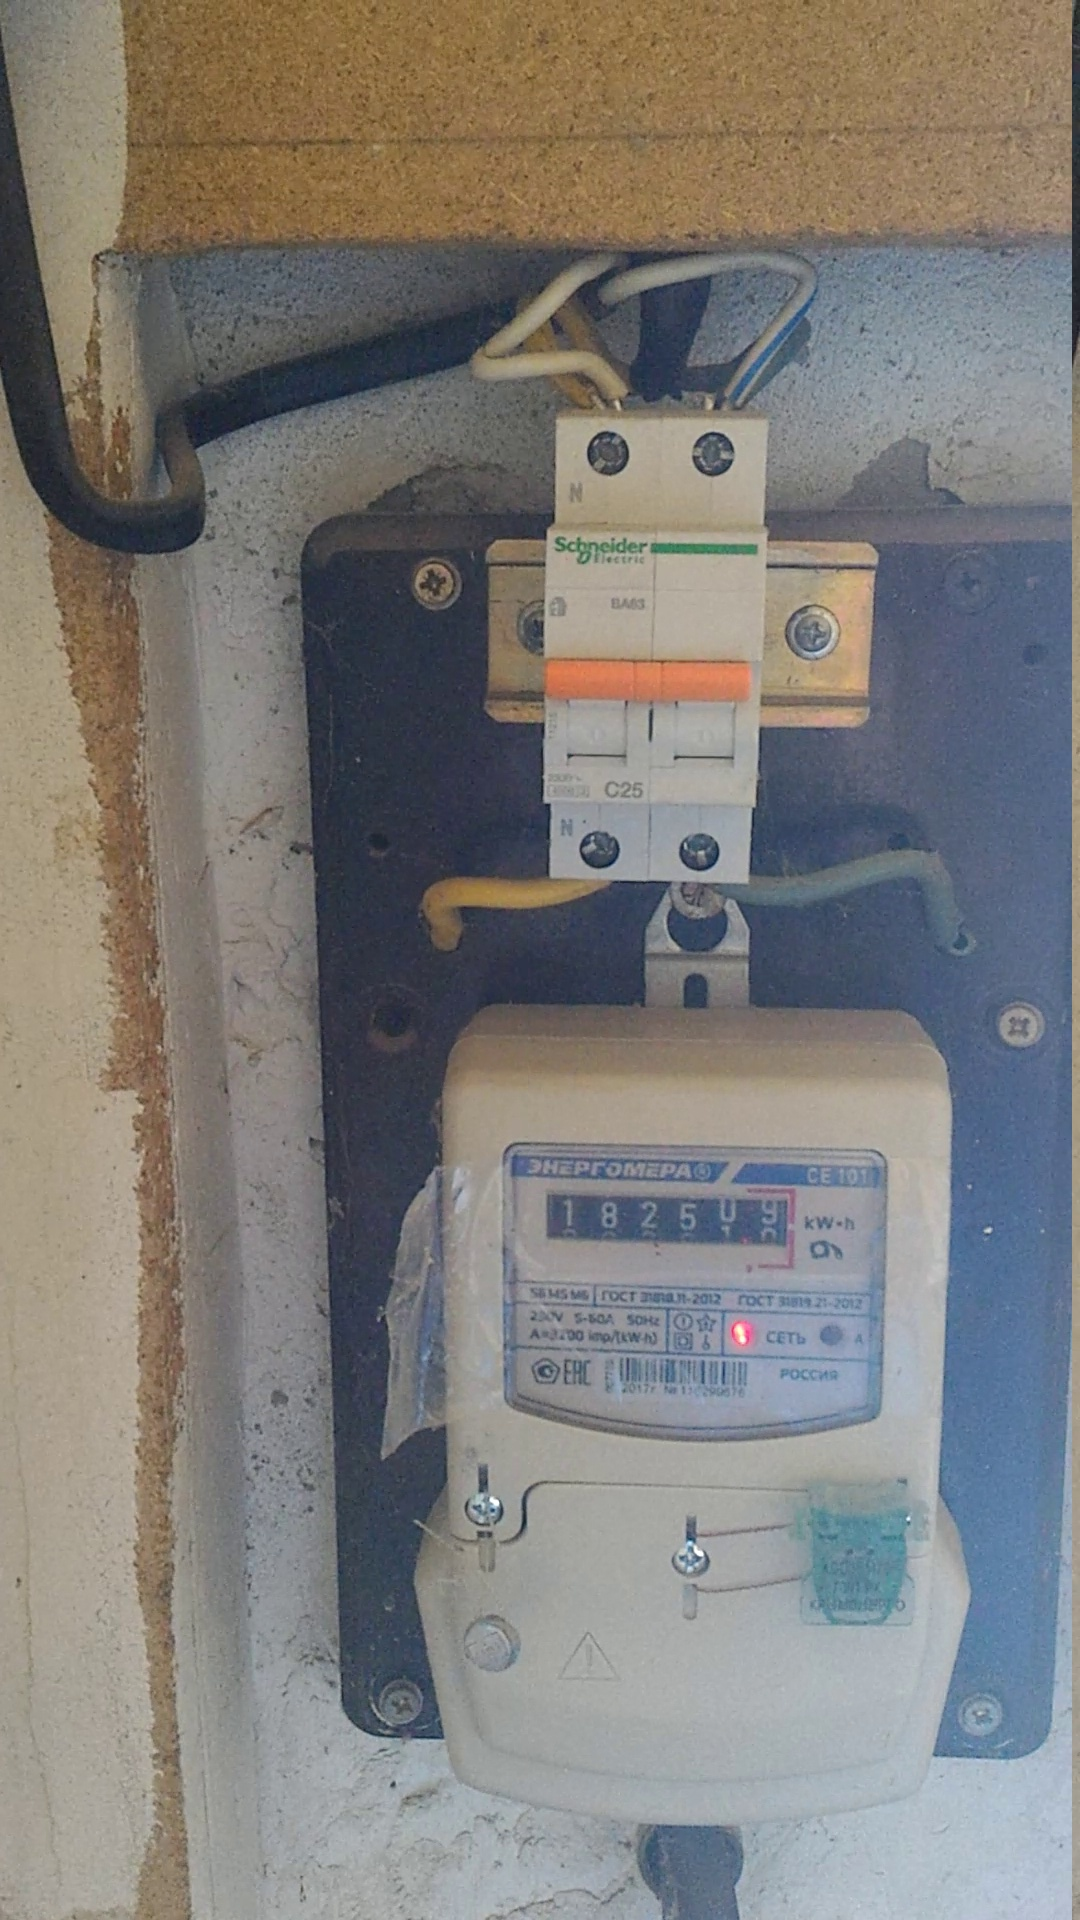counter: (421, 1069, 968, 1829)
counter_screen: (543, 1193, 790, 1251)
